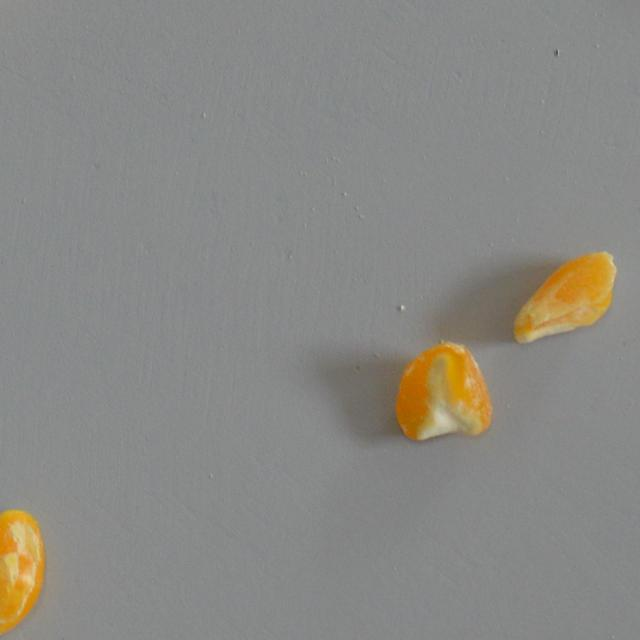dañado: (391, 335, 500, 446), (508, 245, 620, 353), (0, 500, 47, 640)
